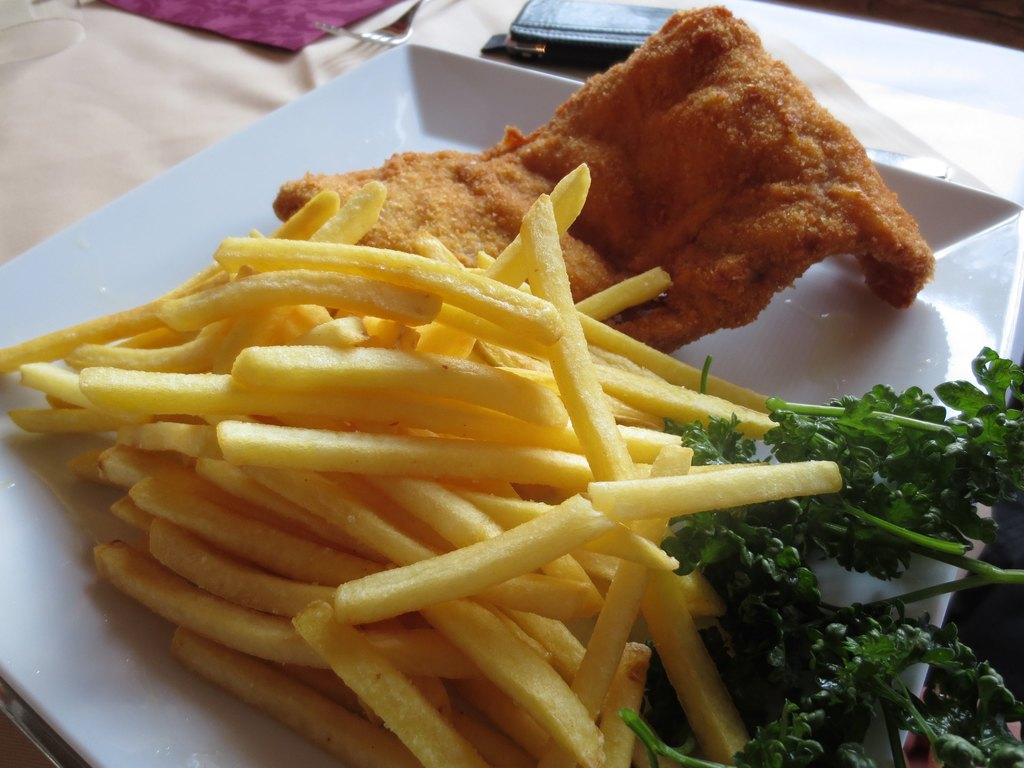French fries: (0, 154, 846, 767)
